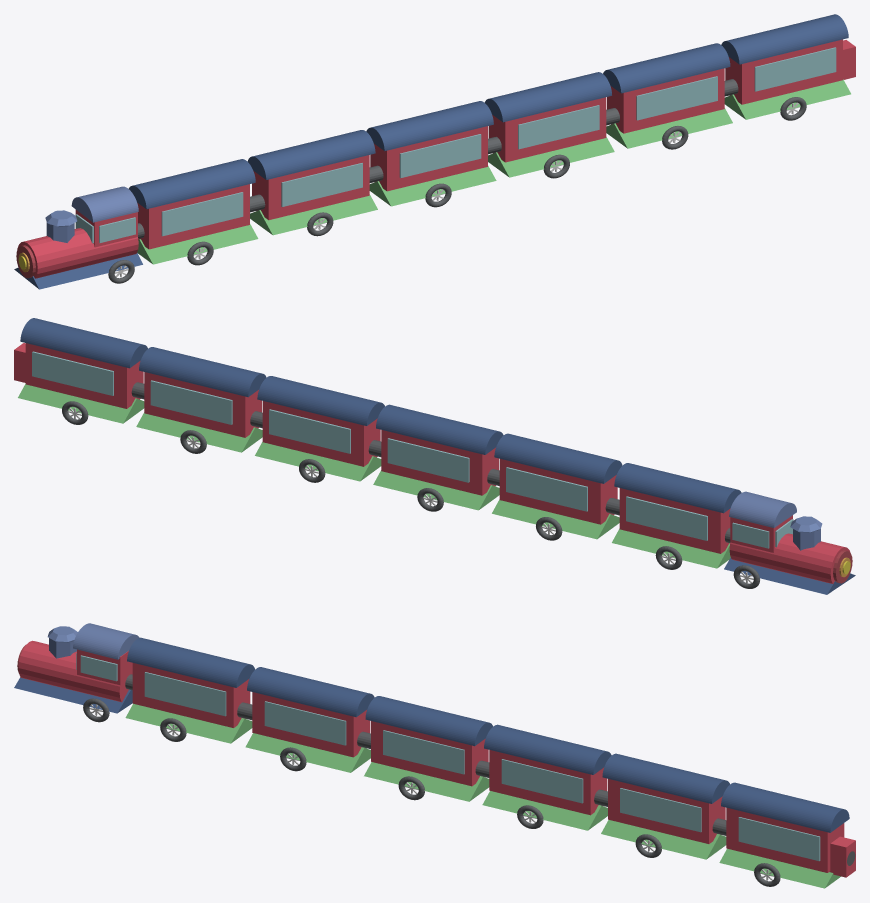
File: train.glb
3 views of the same model, one above another, from view 1: azimuth 30°, elevation 25°; view 2: azimuth 150°, elevation 25°; view 3: azimuth 330°, elevation 25° (orthographic).
Parts seen in each view (by area): view 1: Mesh_Mesh_head_geo.001_lambert2SG.001; view 2: Mesh_Mesh_head_geo.001_lambert2SG.001; view 3: Mesh_Mesh_head_geo.001_lambert2SG.001.
Part boxes in pixels (left/top/right/bottom): Mesh_Mesh_head_geo.001_lambert2SG.001: left=14, top=14, right=855, bottom=289; Mesh_Mesh_head_geo.001_lambert2SG.001: left=14, top=318, right=855, bottom=594; Mesh_Mesh_head_geo.001_lambert2SG.001: left=14, top=623, right=855, bottom=888.
Size of the model in its own units: 574 by 53 by 36.37.
